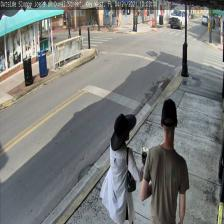person: (140, 97, 189, 224), (100, 113, 148, 223)
